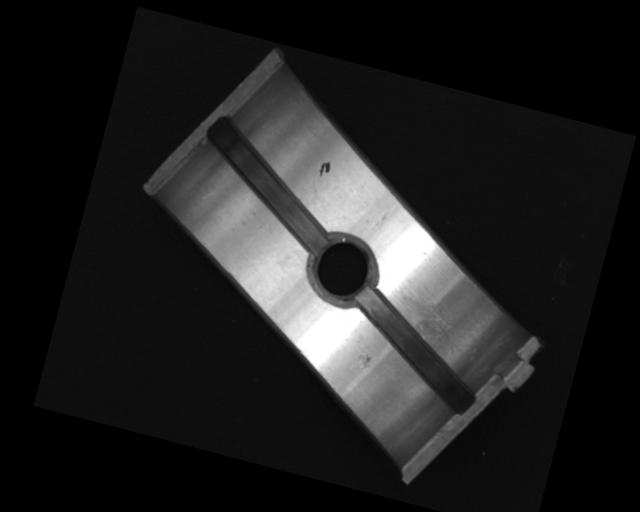blot: (317, 159, 332, 179)
bruise: (354, 351, 374, 371)
gap: (185, 114, 348, 254), (336, 287, 494, 417)
hole: (304, 229, 382, 312)
nick: (369, 194, 399, 236)
scratch: (384, 283, 474, 361)
